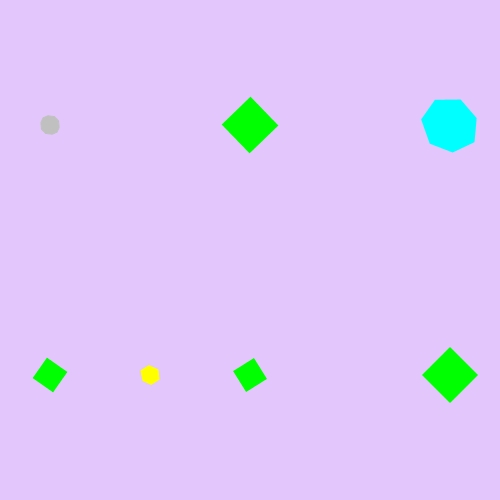decagon: (35, 111, 65, 139)
heptagon: (419, 95, 482, 155)
hexagon: (135, 362, 165, 388)
quadrilateral: (219, 94, 281, 156), (419, 344, 481, 406), (29, 354, 71, 396), (229, 354, 271, 396)
